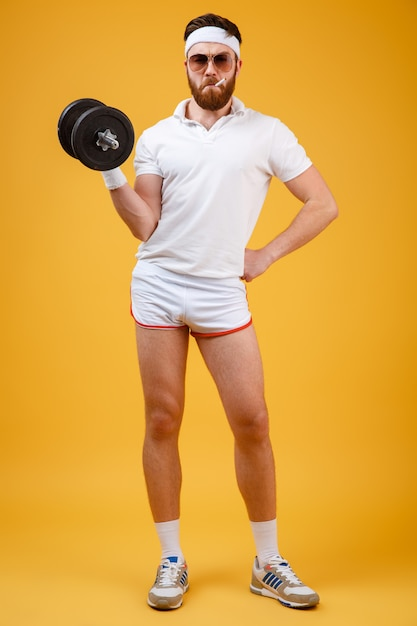cigarette: (215, 78, 226, 88)
